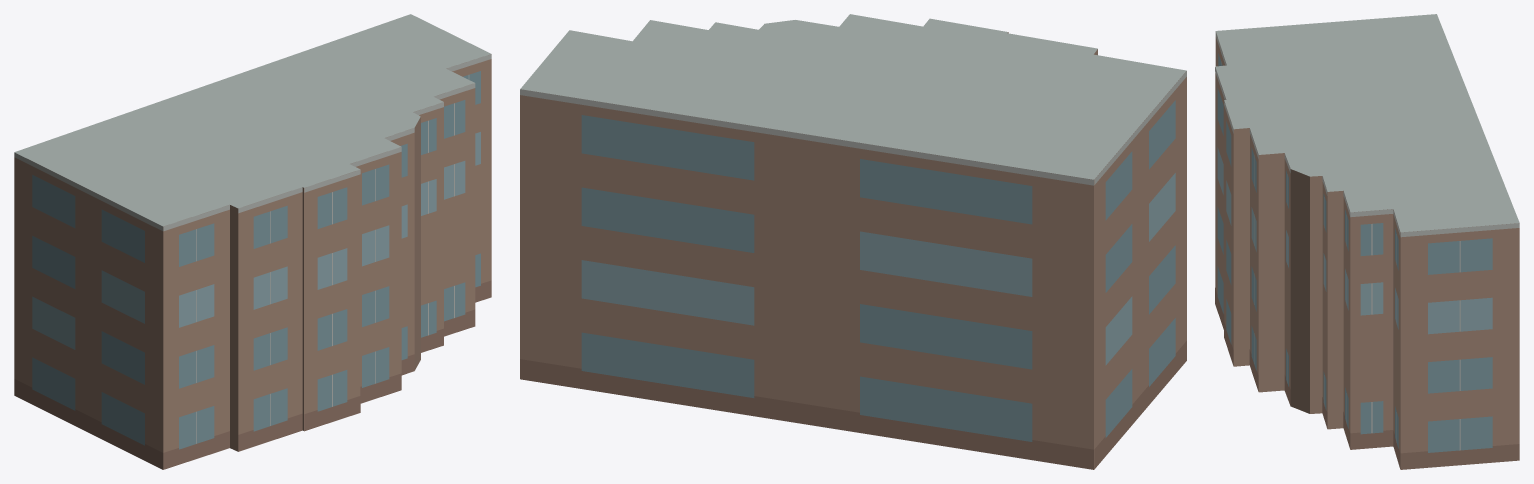
File: survey-upis-32660492.glb
The picture shows the model from 3 angles, left to right: view 1: azimuth 30°, elevation 25°; view 2: azimuth 150°, elevation 25°; view 3: azimuth 270°, elevation 25°; orthographic projection. The views are drawn at different scales.
Parts seen in each view (by area): view 1: survey-upis-32660492.tmp; view 2: survey-upis-32660492.tmp; view 3: survey-upis-32660492.tmp.
Boxes of the visible parts, box(x1,y1,x2,y2) form: survey-upis-32660492.tmp: box(14, 14, 491, 469); survey-upis-32660492.tmp: box(520, 14, 1186, 469); survey-upis-32660492.tmp: box(1215, 14, 1519, 469).
Bounding box in the file's own units: 23.68 × 12 × 13.96.
